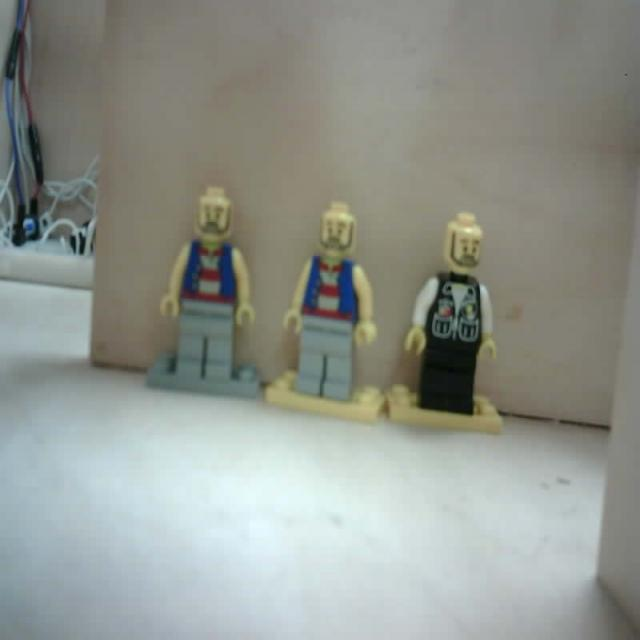Lego-People: (264, 202, 389, 426), (387, 213, 507, 431), (150, 185, 266, 399)
